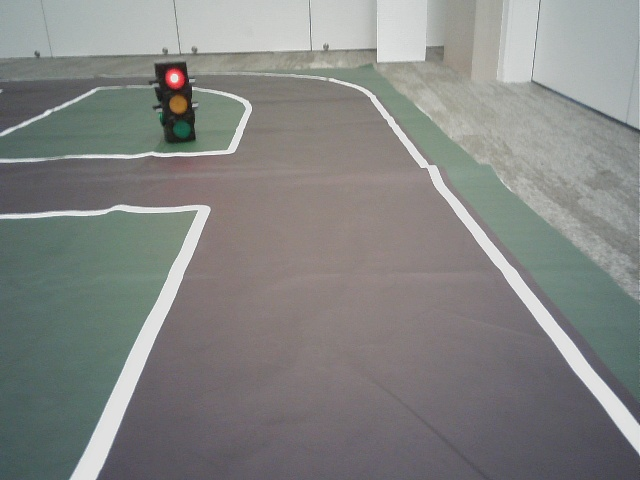red: (162, 65, 194, 137)
